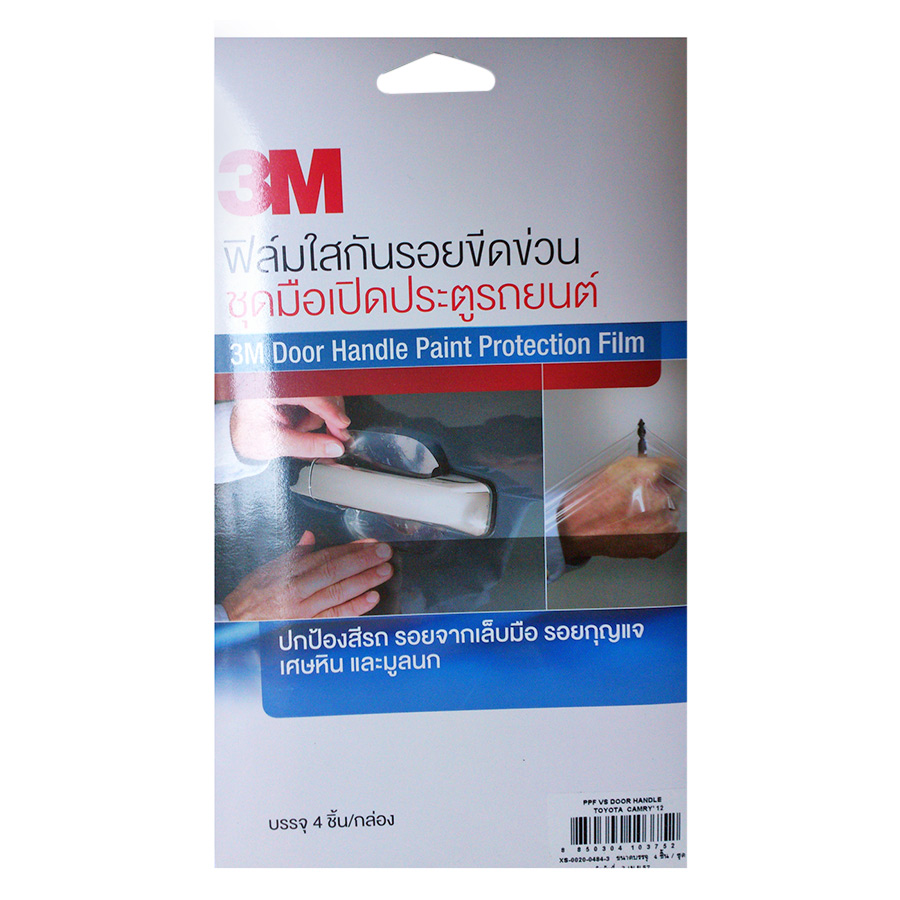3M: (209, 135, 360, 225)
